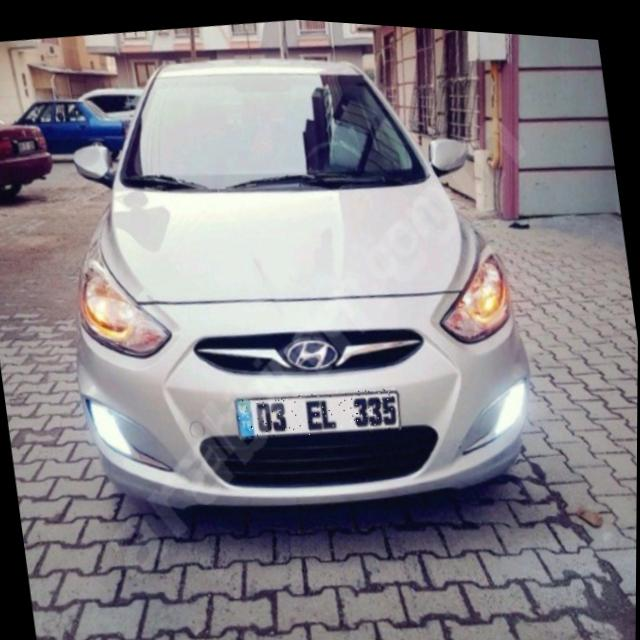license_plate: (236, 373, 402, 445)
